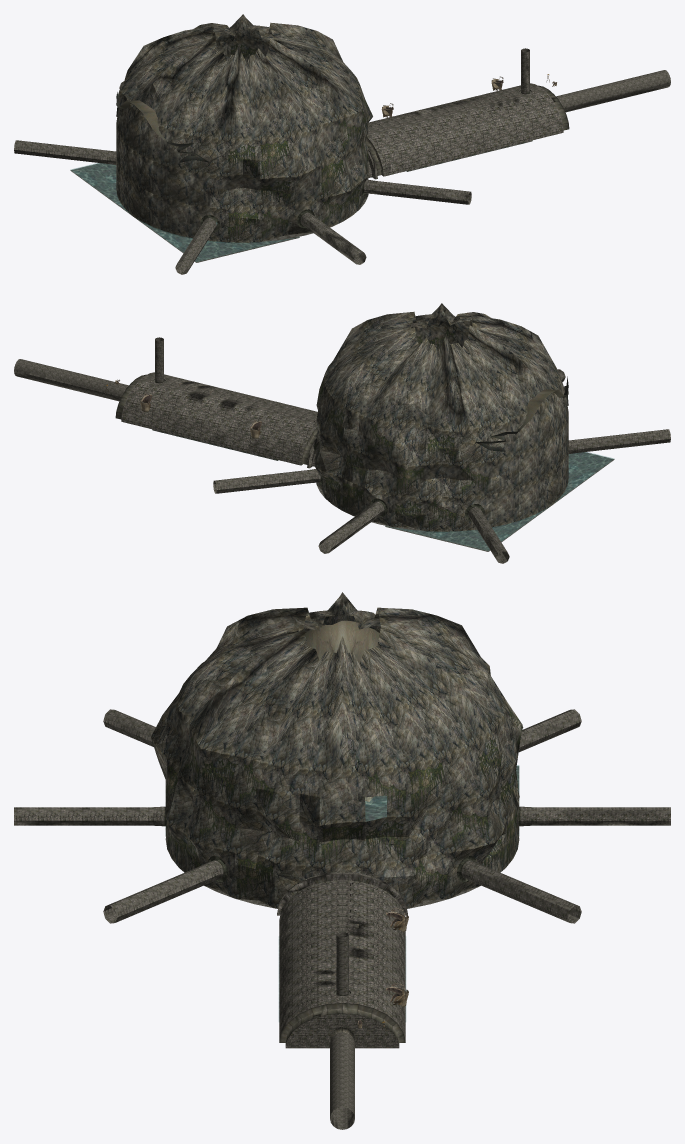
File: chamber_of_secrets_fixed.glb
3 renders of one model, top to bottom at view 1: azimuth 30°, elevation 25°; view 2: azimuth 150°, elevation 25°; view 3: azimuth 270°, elevation 25°, orthographic. The views are drawn at different scales.
Parts seen in each view (by area): view 1: Mesh_0076.001, Mesh_0109.001, Mesh_0071.001, Mesh_0083.001, Mesh_0069.001, Mesh_0082.001, Mesh_0103.001, Mesh_0075.001, Mesh_0205.001, Mesh_0084.001, Mesh_0072.001, Mesh_0074.001 (+8 smaller); view 2: Mesh_0076.001, Mesh_0109.001, Mesh_0071.001, Mesh_0083.001, Mesh_0069.001, Mesh_0082.001, Mesh_0103.001, Mesh_0072.001, Mesh_0085.001, Mesh_0086.001, Mesh_0205.001, Mesh_0074.001 (+8 smaller); view 3: Mesh_0076.001, Mesh_0109.001, Mesh_0073.001, Mesh_0069.001, Mesh_0071.001, Mesh_0070.001, Mesh_0074.001, Mesh_0081.001, Mesh_0120.001, Mesh_0087.001, Mesh_0075.001, Mesh_0085.001 (+7 smaller).
Boxes of the visible parts, x1,y1,x2,y2 form: Mesh_0076.001: (119,14,361,140); Mesh_0109.001: (367,70,670,176); Mesh_0071.001: (116,41,368,241); Mesh_0083.001: (116,131,368,241); Mesh_0069.001: (14,81,471,268); Mesh_0082.001: (116,125,259,243); Mesh_0103.001: (70,163,368,262); Mesh_0075.001: (226,136,350,219); Mesh_0205.001: (71,163,298,261); Mesh_0084.001: (126,117,372,242); Mesh_0072.001: (123,78,368,216); Mesh_0074.001: (226,40,368,209); Mesh_0076.001: (324,303,559,431); Mesh_0109.001: (14,359,317,465); Mesh_0071.001: (316,330,568,531); Mesh_0083.001: (358,415,568,527); Mesh_0069.001: (213,369,670,557); Mesh_0082.001: (316,420,567,530); Mesh_0103.001: (316,452,614,551); Mesh_0072.001: (315,399,558,496); Mesh_0085.001: (317,421,490,531); Mesh_0086.001: (315,342,458,530); Mesh_0205.001: (386,452,613,550); Mesh_0074.001: (320,327,458,527); Mesh_0076.001: (177,592,507,771); Mesh_0109.001: (279,880,405,1117); Mesh_0073.001: (179,702,522,907); Mesh_0069.001: (14,709,670,917); Mesh_0071.001: (167,711,519,886); Mesh_0070.001: (151,693,523,908); Mesh_0074.001: (200,666,517,872); Mesh_0081.001: (14,721,670,923); Mesh_0120.001: (285,932,399,1129); Mesh_0087.001: (167,729,522,907); Mesh_0075.001: (165,757,517,868); Mesh_0085.001: (167,725,522,900).
Bounding box in the file's own units: 371 × 99.61 × 264.
126 materials, 126 textured.
